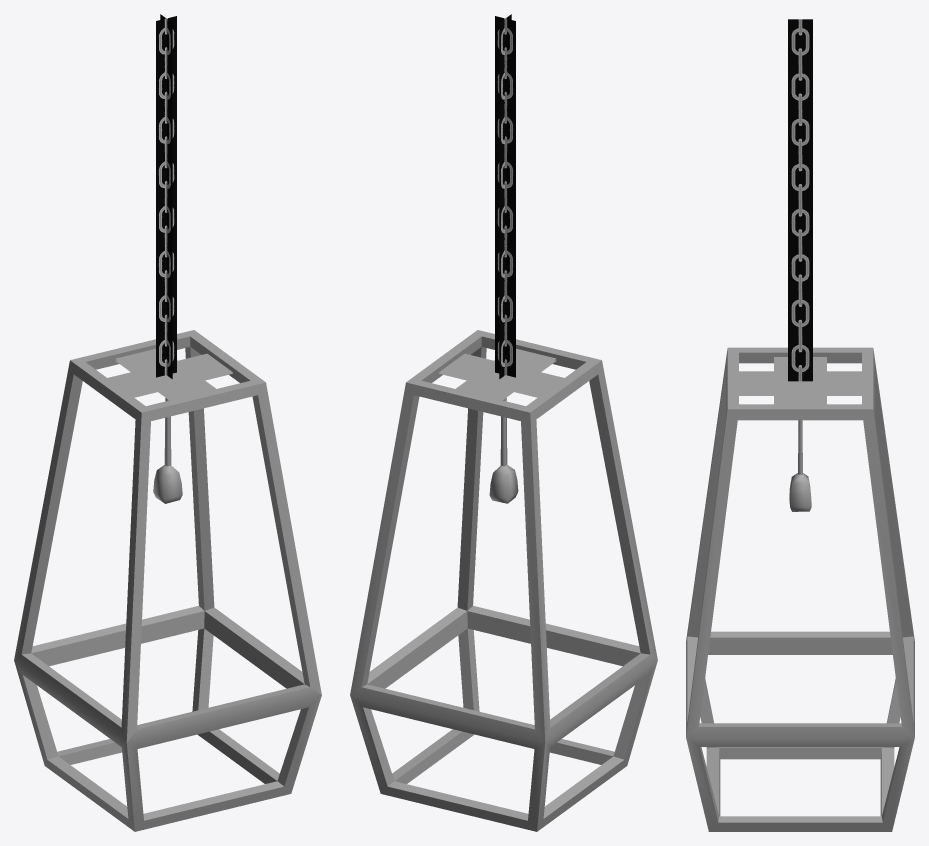
Rendered from Light_Lamp_Ceiling_03.fbx.
3 renders of one model, left to right at view 1: azimuth 30°, elevation 25°; view 2: azimuth 150°, elevation 25°; view 3: azimuth 270°, elevation 25°, orthographic.
Parts seen in each view (by area): view 1: Light_Lamp_Ceiling_03, Light_Lamp_Ceiling_03_Chain_A, Light_Lamp_Ceiling_03_Chain_B; view 2: Light_Lamp_Ceiling_03, Light_Lamp_Ceiling_03_Chain_A, Light_Lamp_Ceiling_03_Chain_B; view 3: Light_Lamp_Ceiling_03, Light_Lamp_Ceiling_03_Chain_A, Light_Lamp_Ceiling_03_Chain_B.
Part boxes in pixels (<box>): Light_Lamp_Ceiling_03: <box>14,330,321,831</box>; Light_Lamp_Ceiling_03_Chain_A: <box>156,14,176,379</box>; Light_Lamp_Ceiling_03_Chain_B: <box>156,16,176,376</box>; Light_Lamp_Ceiling_03: <box>350,330,657,831</box>; Light_Lamp_Ceiling_03_Chain_A: <box>495,14,515,379</box>; Light_Lamp_Ceiling_03_Chain_B: <box>495,15,515,378</box>; Light_Lamp_Ceiling_03: <box>686,347,914,831</box>; Light_Lamp_Ceiling_03_Chain_A: <box>788,19,812,381</box>; Light_Lamp_Ceiling_03_Chain_B: <box>788,19,812,380</box>.
Bounding box in the file's own units: 20 × 74.58 × 20.
Materials: 2 (1 with a texture image).
